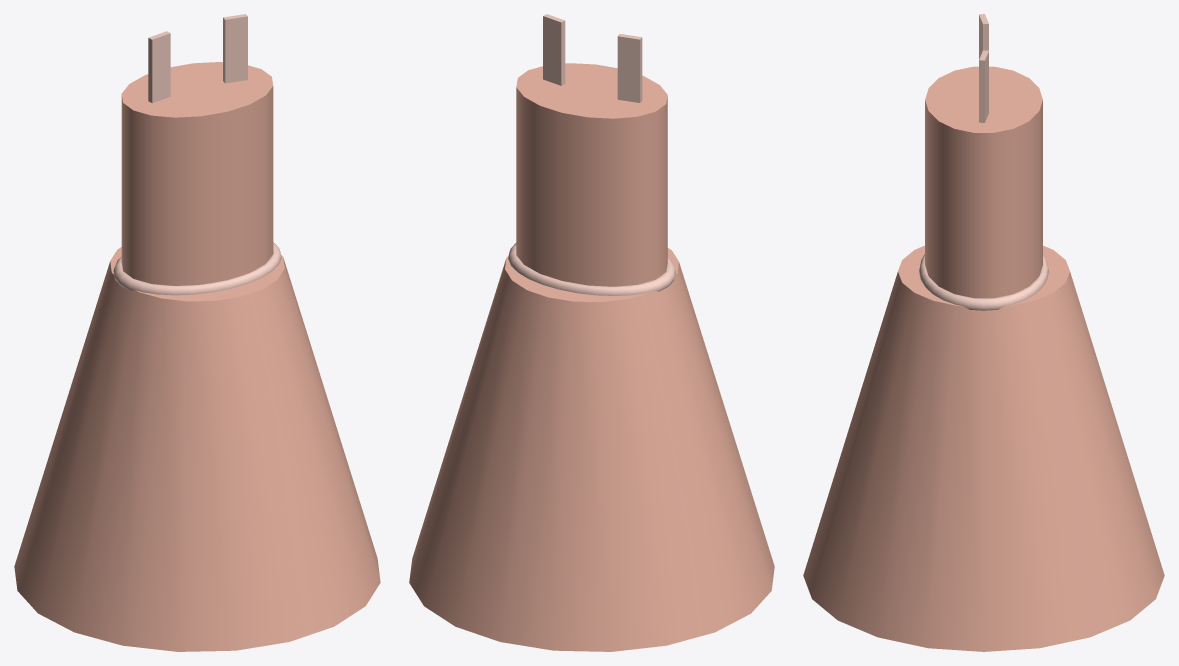
File: VM-DAM-EXT178.glb
The picture shows the model from 3 angles, left to right: view 1: azimuth 30°, elevation 25°; view 2: azimuth 150°, elevation 25°; view 3: azimuth 270°, elevation 25°; orthographic projection.
Visible parts, largest first — view 1: Corset de Cuero con Falda; view 2: Corset de Cuero con Falda; view 3: Corset de Cuero con Falda.
Boxes of the visible parts, x1,y1,x2,y2 form: Corset de Cuero con Falda: (14,14,380,651); Corset de Cuero con Falda: (409,14,774,651); Corset de Cuero con Falda: (803,14,1164,651).
Size of the model in its own units: 0.8064 by 1.32 by 0.8064.
